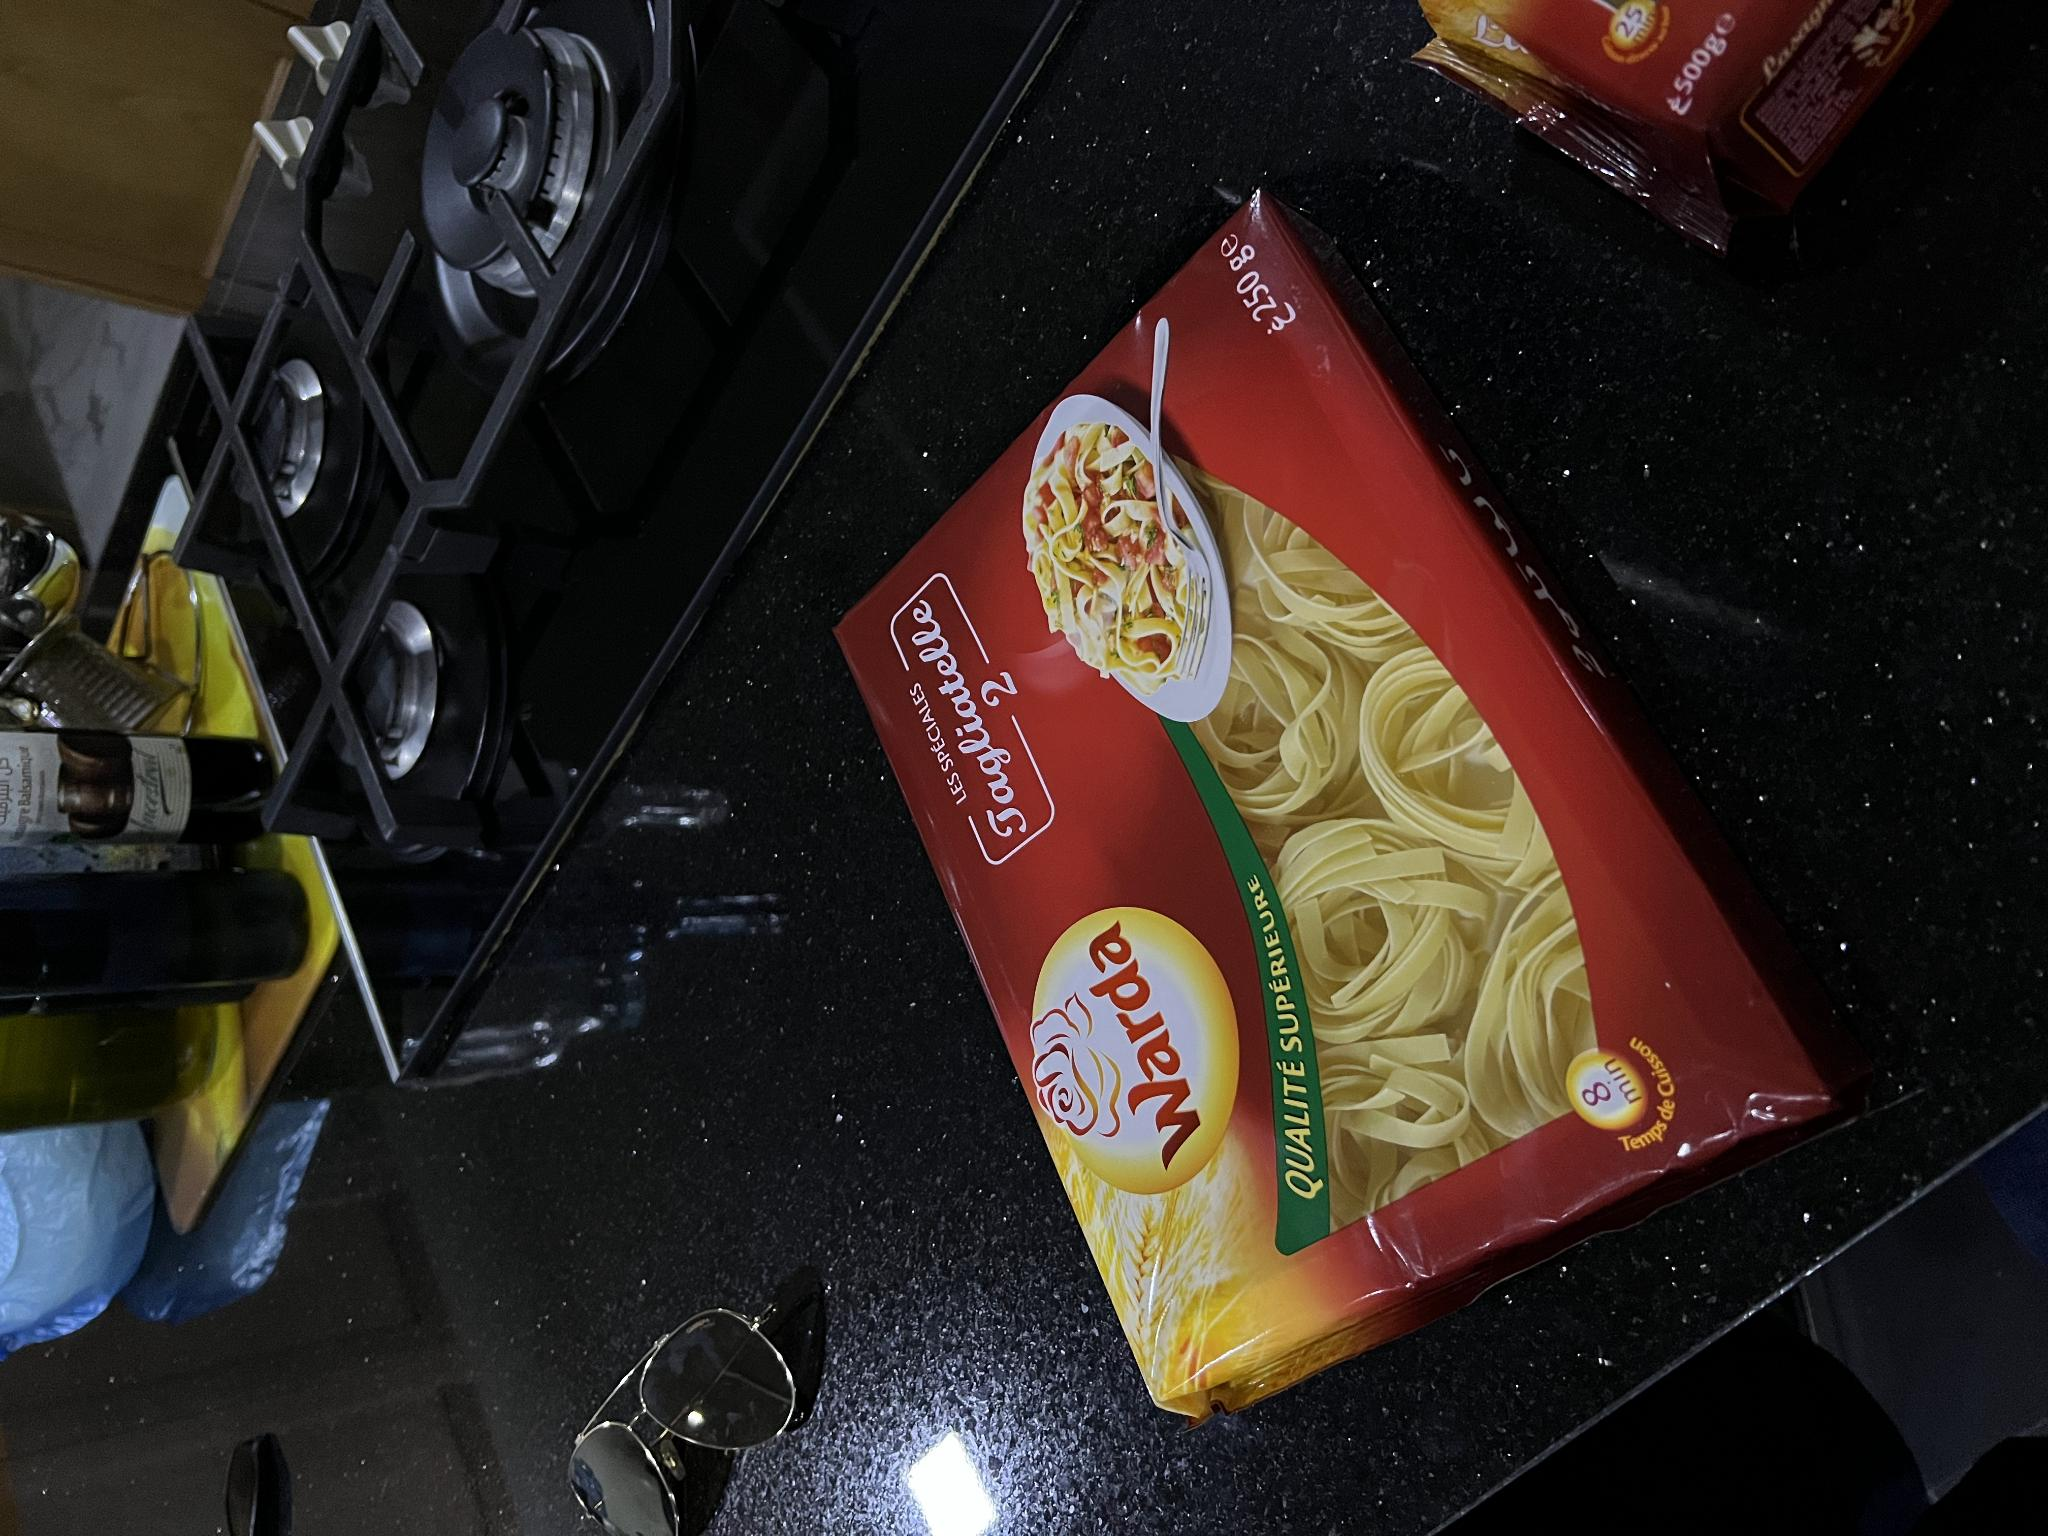Tagliatelle: (842, 226, 1803, 1379)
